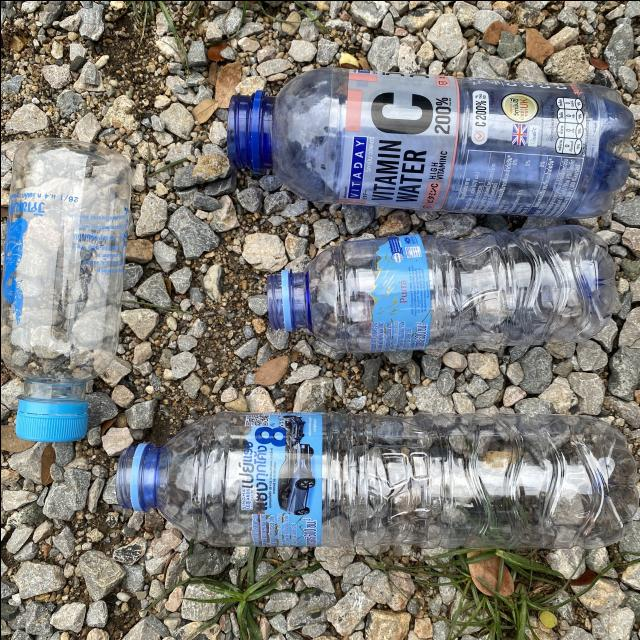plastik: (114, 411, 637, 548), (227, 68, 632, 218), (266, 224, 616, 352), (0, 138, 131, 440)
